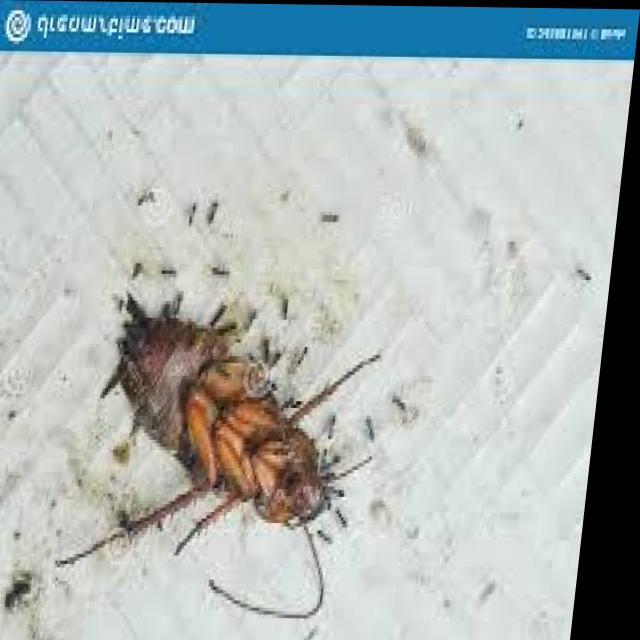Cockroach: (50, 229, 425, 640)
